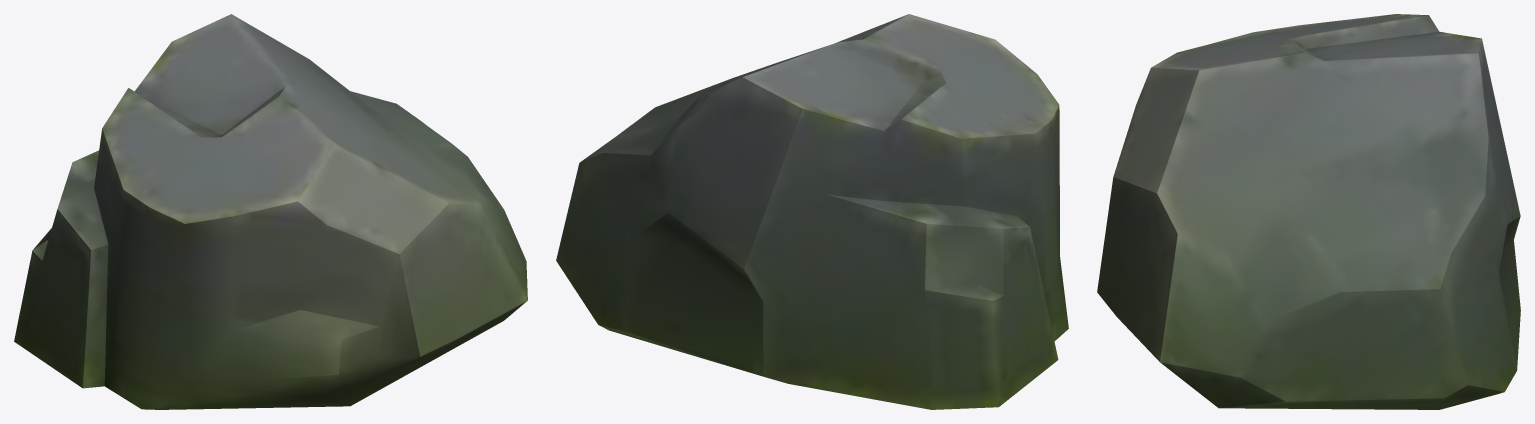
File: Rock_Medium_2.glb
The picture shows the model from 3 angles, left to right: view 1: azimuth 30°, elevation 25°; view 2: azimuth 150°, elevation 25°; view 3: azimuth 270°, elevation 25°; orthographic projection. The views are drawn at different scales.
Parts seen in each view (by area): view 1: Rock_Medium_2; view 2: Rock_Medium_2; view 3: Rock_Medium_2.
Boxes of the visible parts, x1,y1,x2,y2 form: Rock_Medium_2: (14, 14, 527, 409); Rock_Medium_2: (556, 14, 1068, 409); Rock_Medium_2: (1097, 14, 1520, 409).
Bounding box in the file's own units: 3.05 × 1.87 × 2.48.
Materials: 1 (1 with a texture image).
